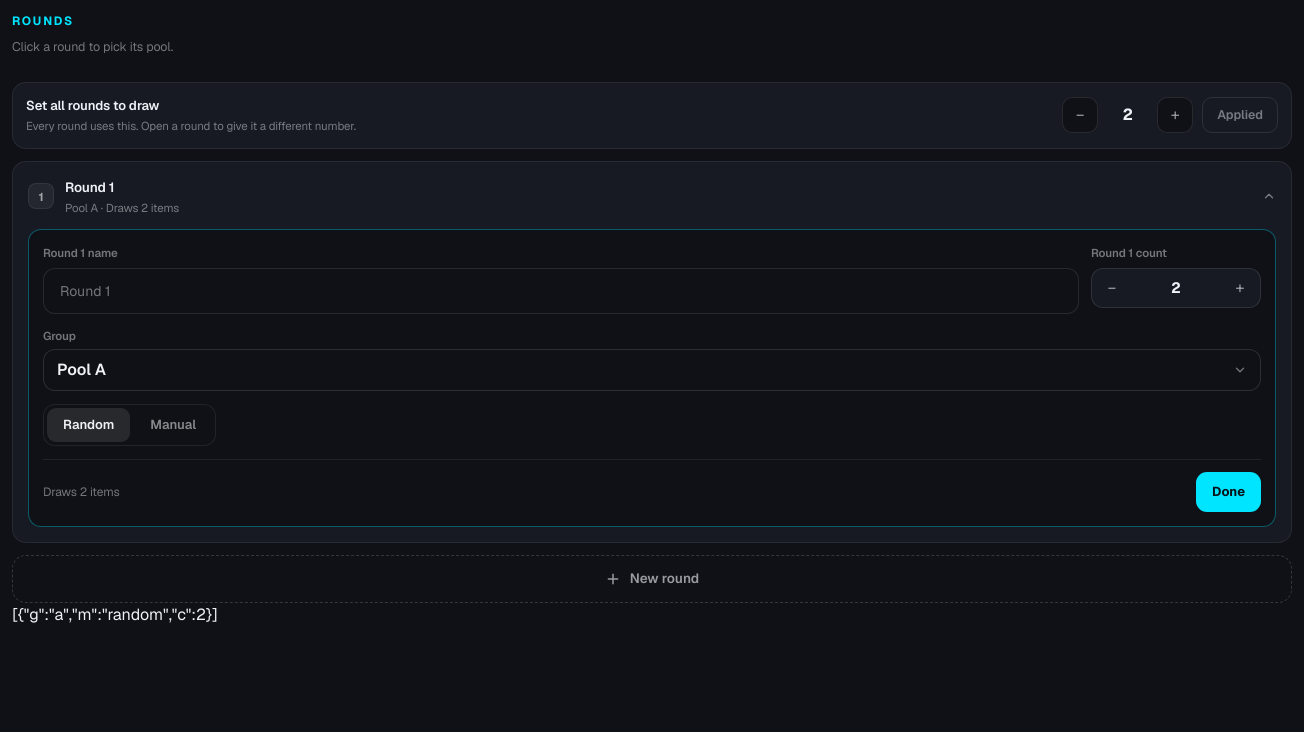
Test: RoundsEditor › removes a round
The width and height of the screenshot is (1304, 732).
Click the button "New round".
click(652, 578)  # box [12,554,1292,602]
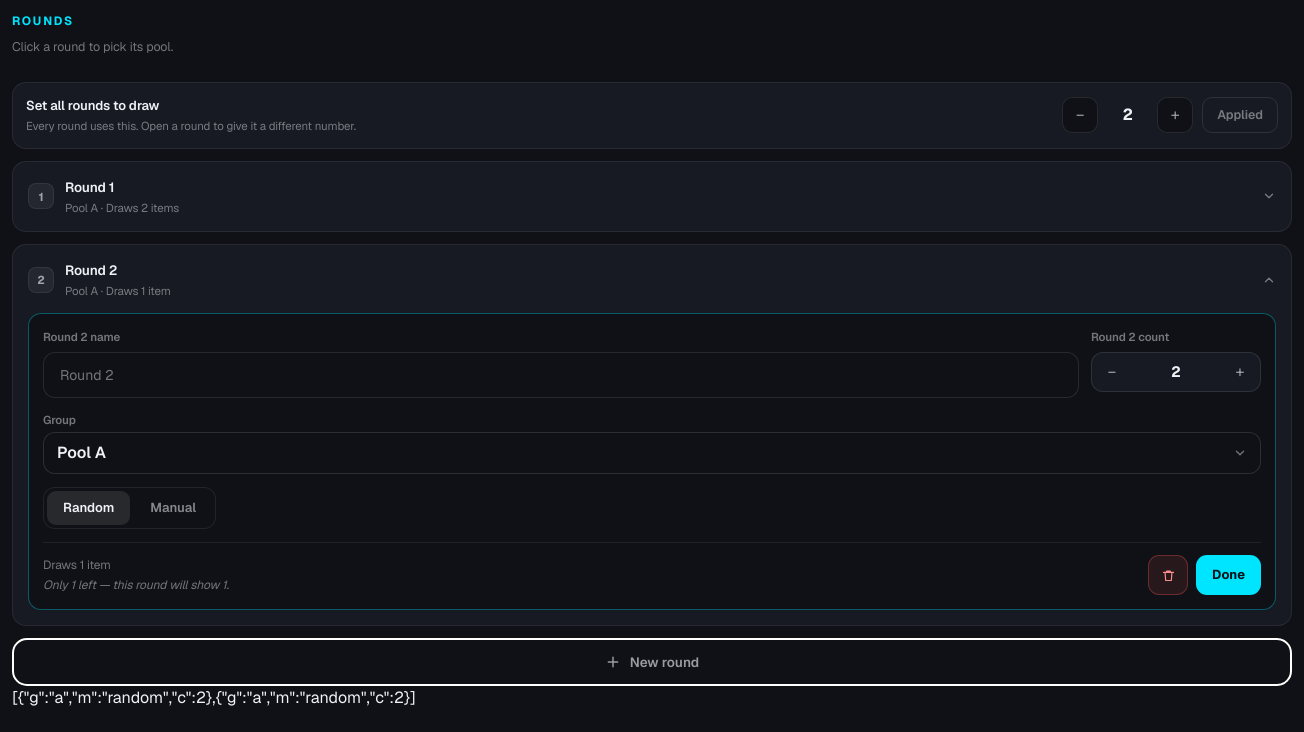
Click the button named "Remove round 2".
click(1168, 575)  # box [1148,555,1188,595]
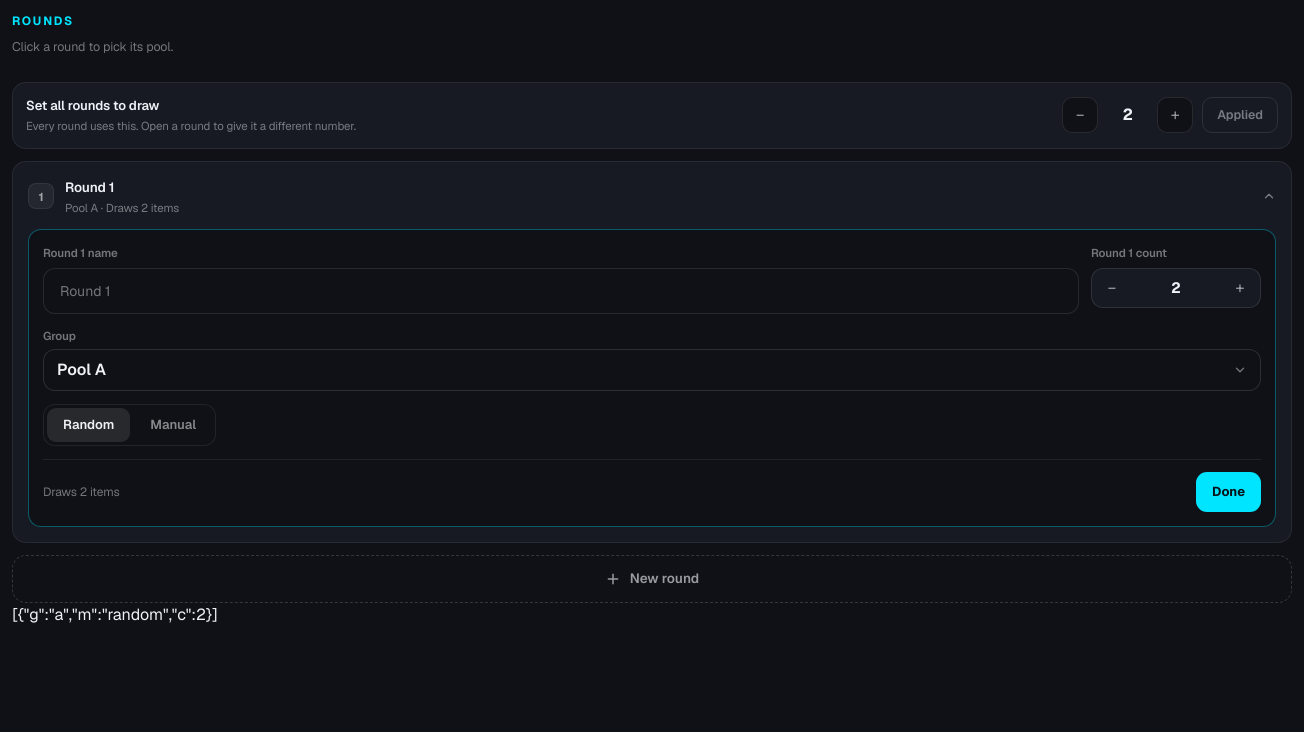
Expected: the text labelled "Round 2 name" is gone
